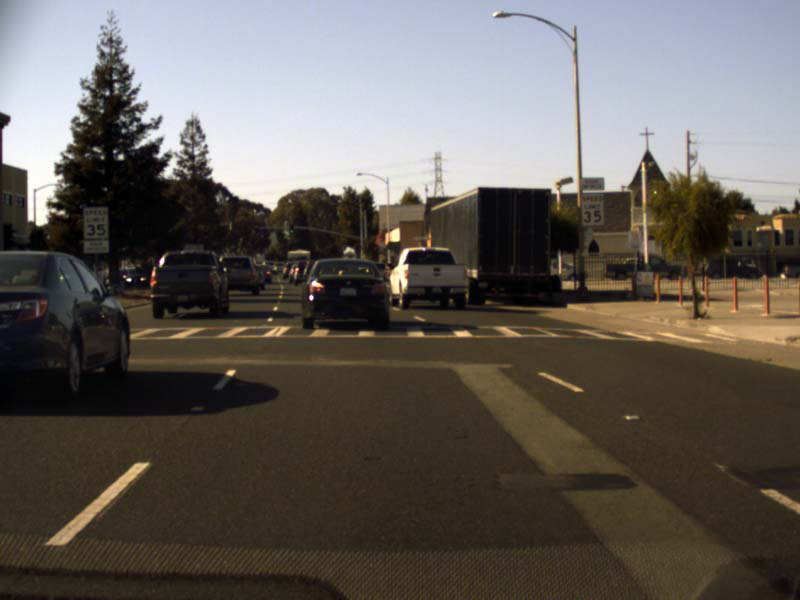Green: (289, 224, 293, 233)
